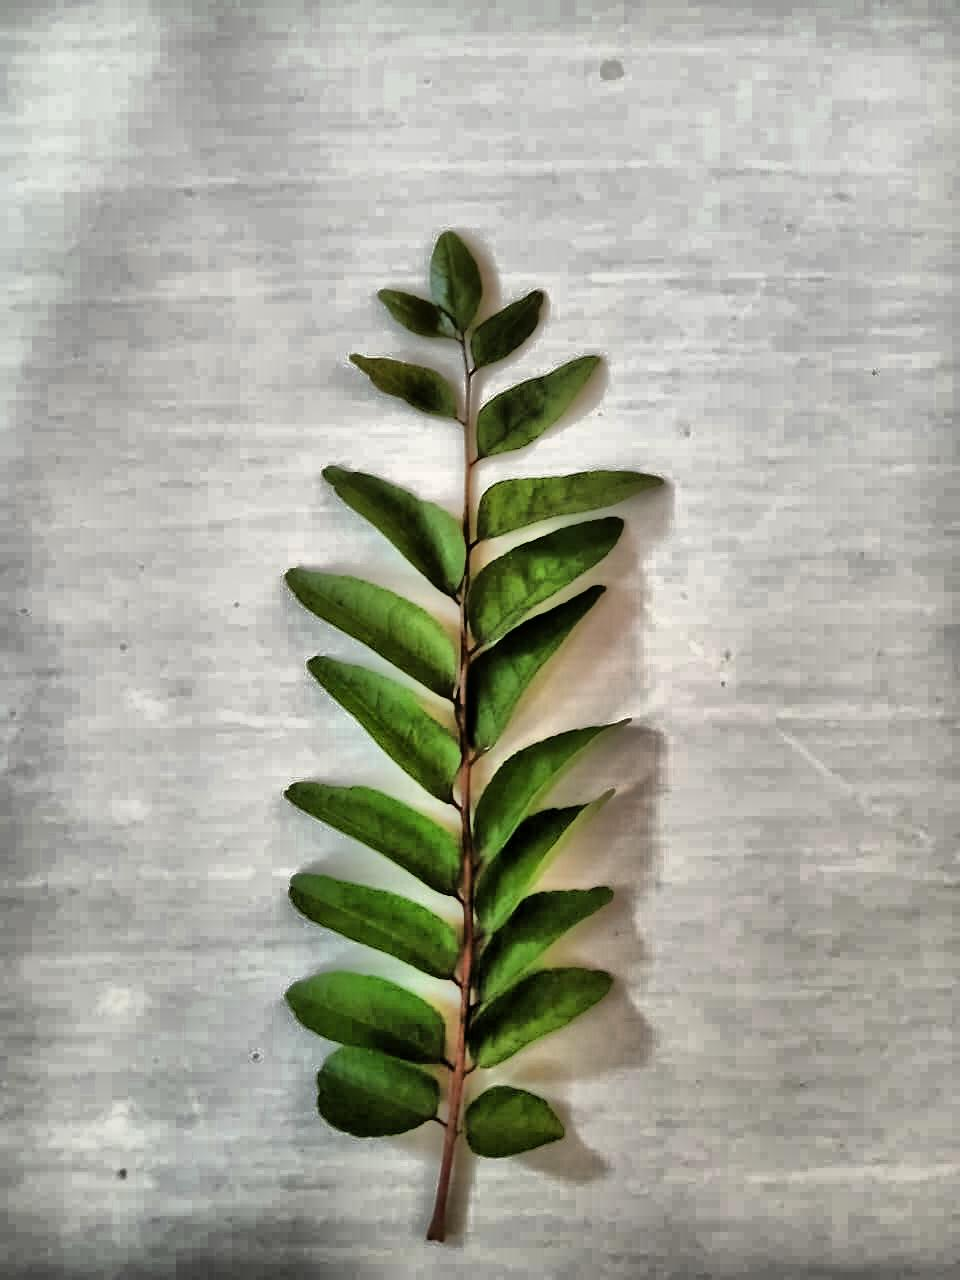daun kari: (285, 232, 659, 1240)
